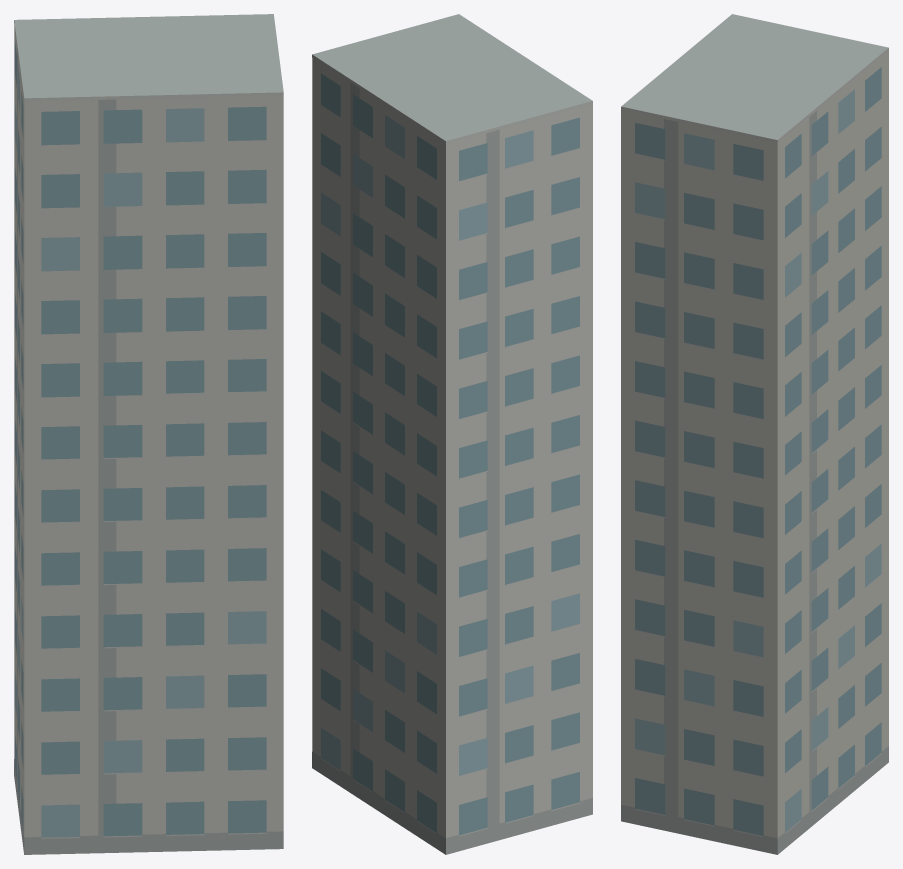
The model's file is residential-6cf8e619-813d-4596-97d9-762ac898d41e.glb.
3 renders of one model, left to right at view 1: azimuth 30°, elevation 25°; view 2: azimuth 150°, elevation 25°; view 3: azimuth 270°, elevation 25°, orthographic. The views are drawn at different scales.
Visible parts, largest first — view 1: residential-6cf8e619-813d-4596-97d9-762ac898d41e.tmp; view 2: residential-6cf8e619-813d-4596-97d9-762ac898d41e.tmp; view 3: residential-6cf8e619-813d-4596-97d9-762ac898d41e.tmp.
Boxes of the visible parts, x1,y1,x2,y2 form: residential-6cf8e619-813d-4596-97d9-762ac898d41e.tmp: (14,14,283,854); residential-6cf8e619-813d-4596-97d9-762ac898d41e.tmp: (312,14,592,854); residential-6cf8e619-813d-4596-97d9-762ac898d41e.tmp: (621,14,888,854).
Size of the model in its own units: 20.82 by 55 by 18.68.
